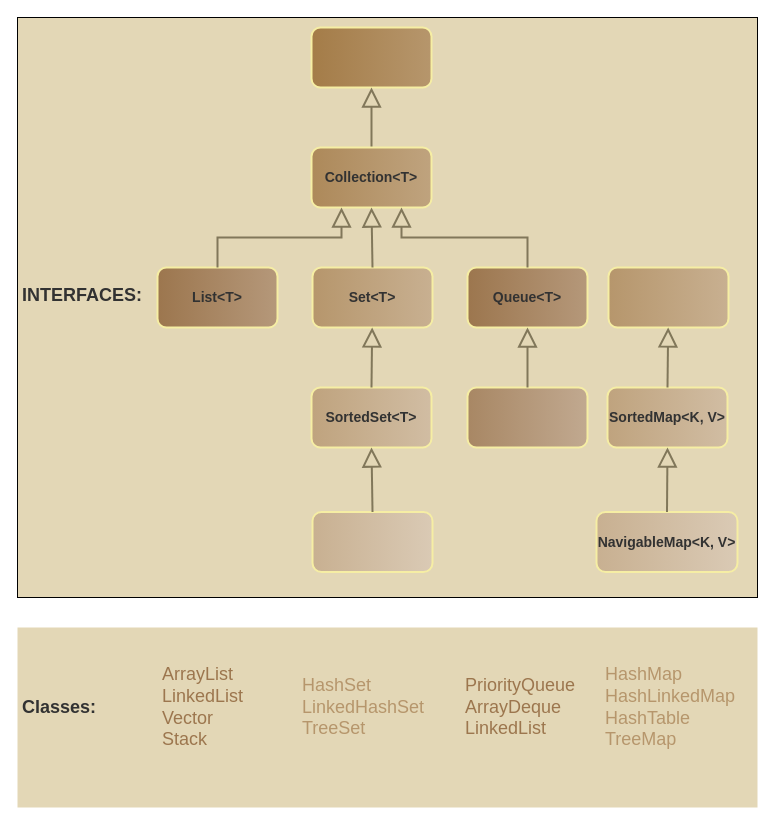
Image size: 775x825. Some labels were removed from this diagram. The centre of each missing label's shape, as x and y in pixels:
Deque<T>: the point at 527,417
Iterable<T>: the point at 371,57
Map<K, V>: the point at 668,297
NavigableSet<T>: the point at 372,541
